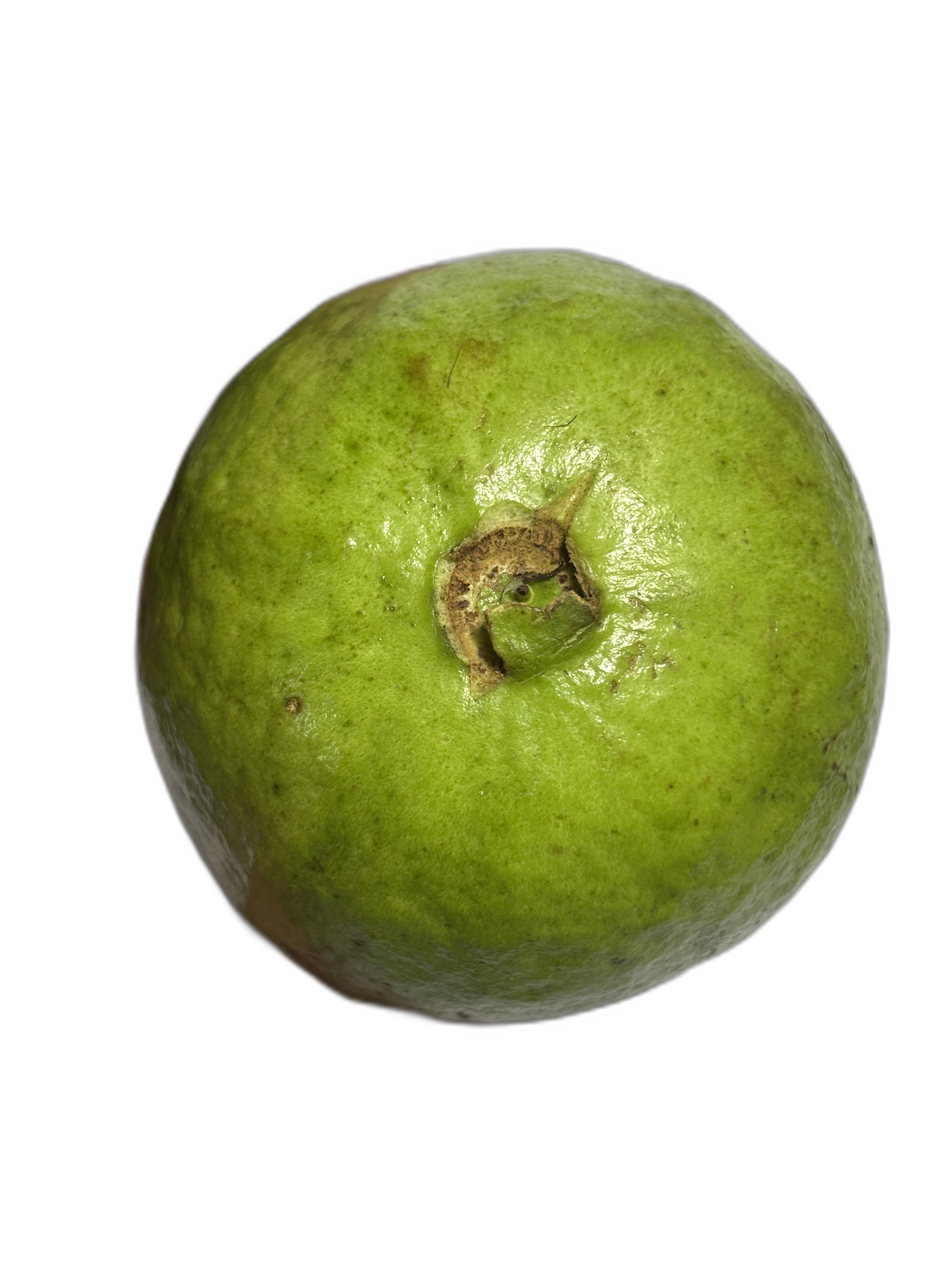guava: (135, 307, 940, 1157)
